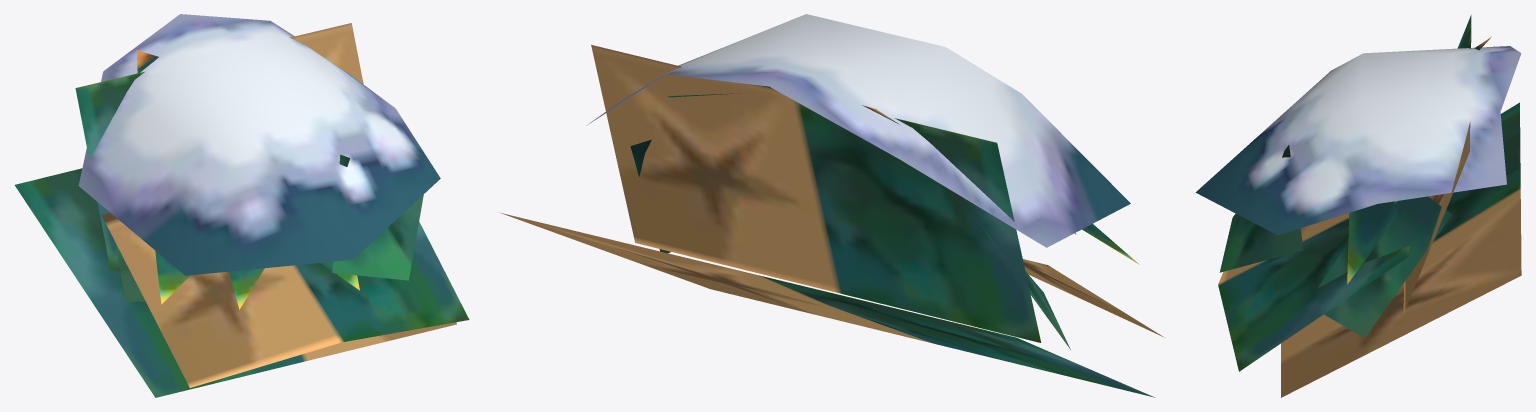
File: fg_bushC_2_bl.dae
The picture shows the model from 3 angles, left to right: view 1: azimuth 30°, elevation 25°; view 2: azimuth 150°, elevation 25°; view 3: azimuth 270°, elevation 25°; orthographic projection. The views are drawn at different scales.
Parts seen in each view (by area): view 1: fg_bushC_2_bl; view 2: fg_bushC_2_bl; view 3: fg_bushC_2_bl.
Boxes of the visible parts, <box> form: fg_bushC_2_bl: <box>14,14,469,397</box>; fg_bushC_2_bl: <box>501,14,1164,397</box>; fg_bushC_2_bl: <box>1195,15,1521,397</box>.
Bounding box in the file's own units: 47.83 × 34.27 × 38.04.
1 material, 1 textured.
